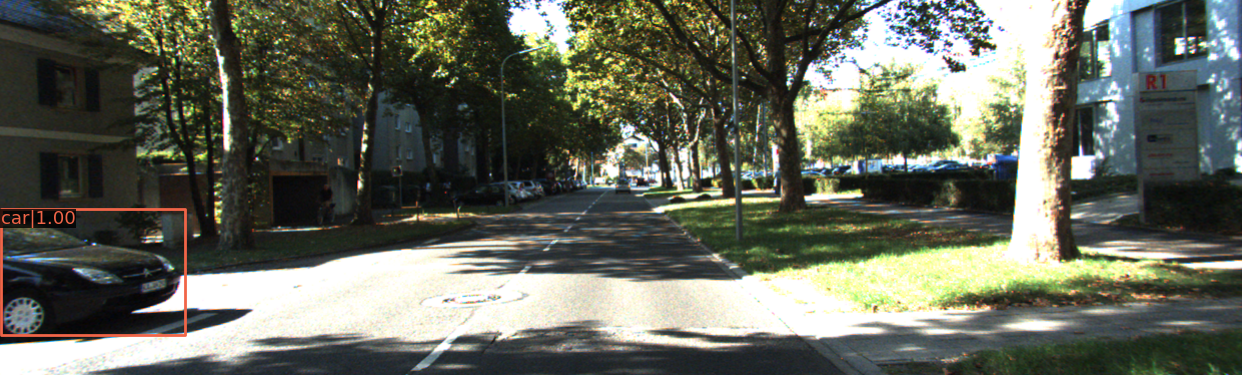car: (1, 206, 195, 346), (449, 186, 511, 211)
